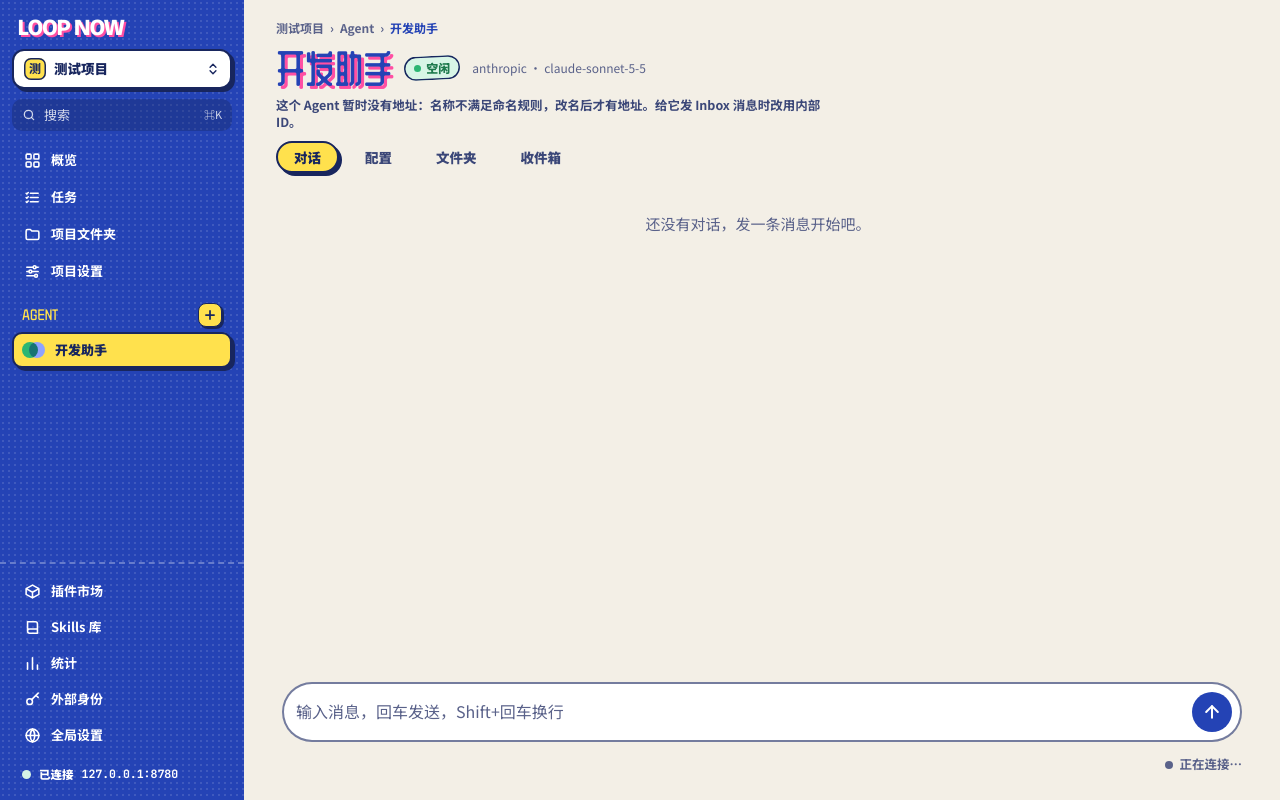
Test case: 发送消息 › 发送成功后去掉已发出的部分，只留下发送期间新输入的文字
This screenshot has width=1280, height=800.
Expected: the element showing "还没有对话，发一条消息开始吧。" is shown, [646,215,870,233]
Type "第一条" into the text box labelled "消息" at (738, 712), box [292,692,1184,732]
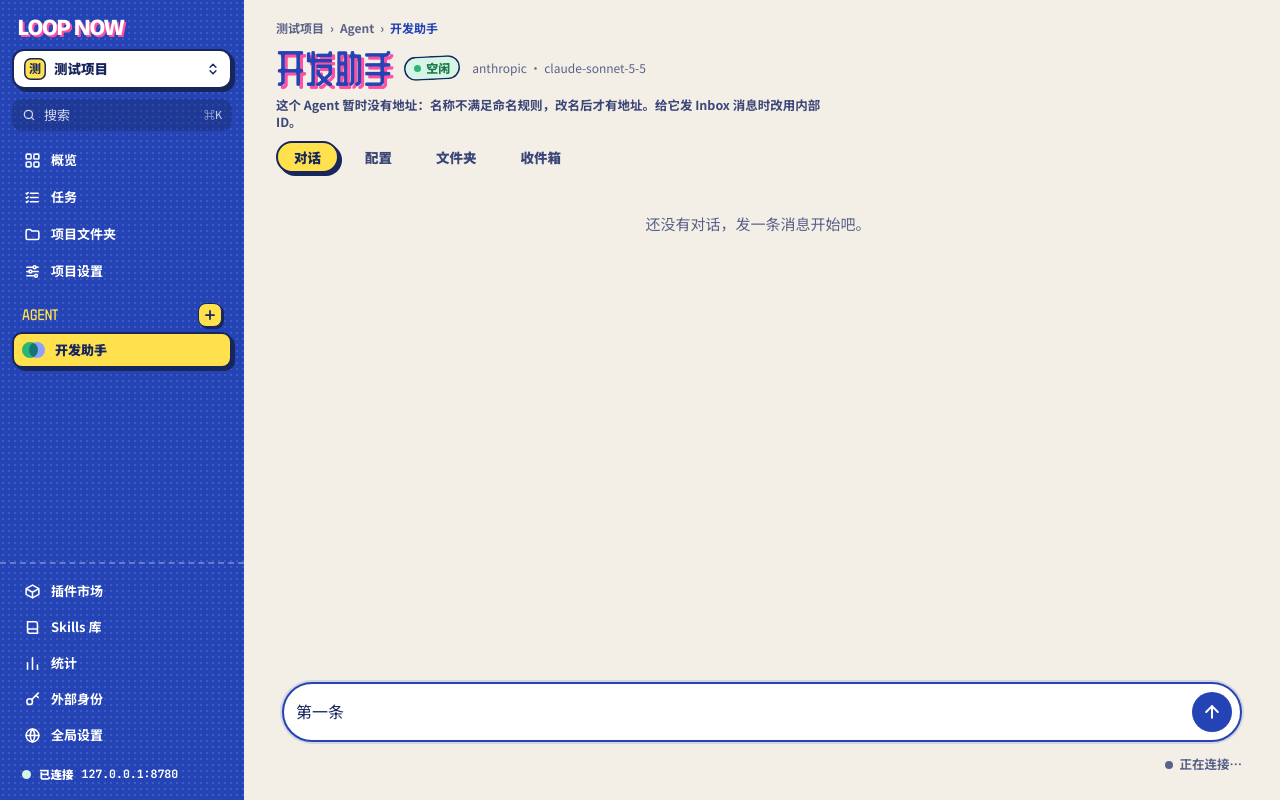
Click the button named "发送" at (1212, 712), box [1192,692,1232,732]
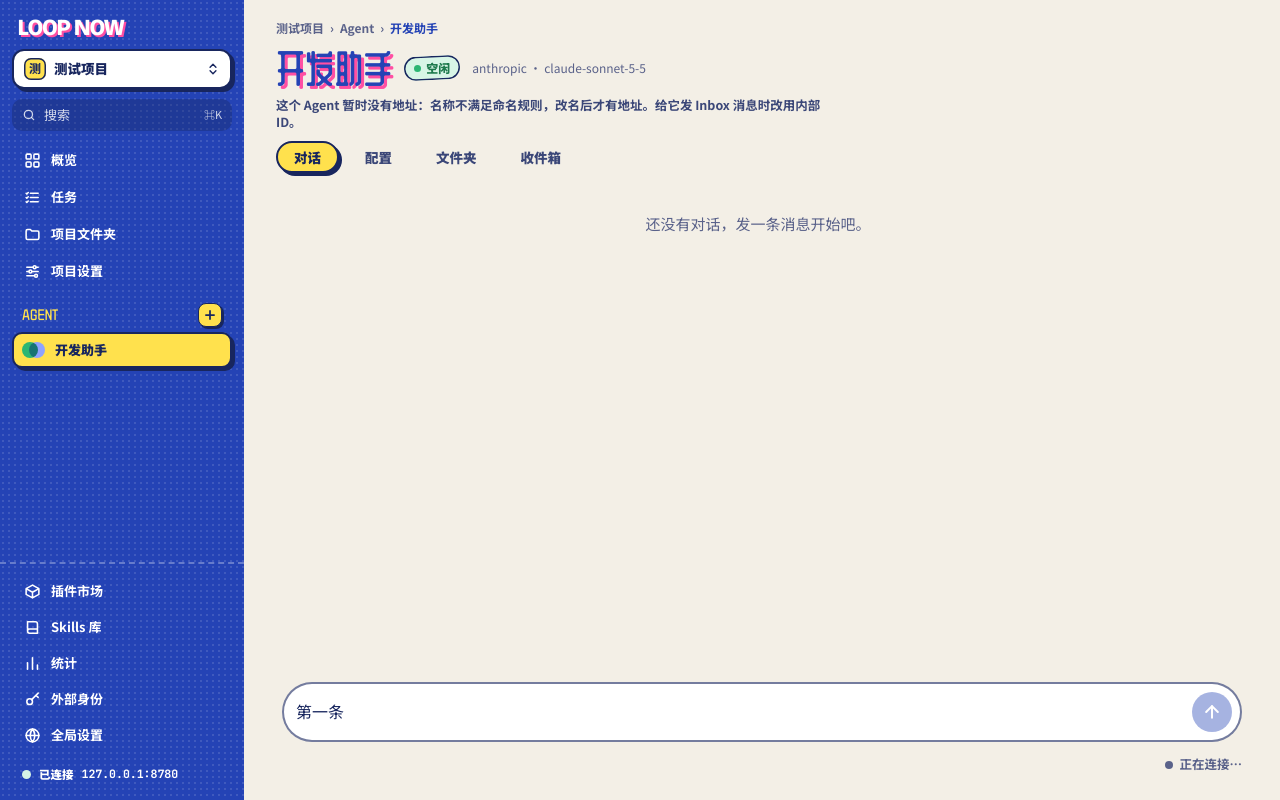
Type "，接着写的第二条" into the text box named "消息" at (738, 712), box [292,692,1184,732]
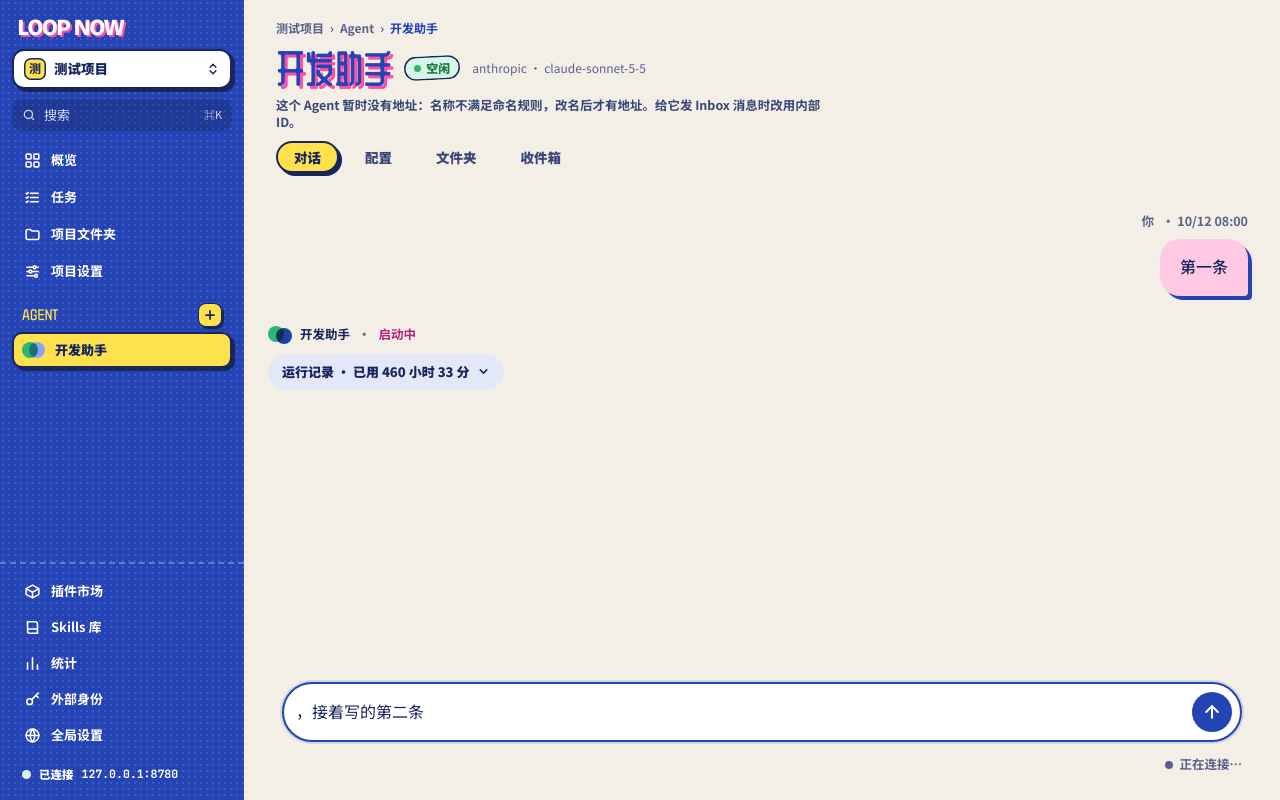
Now the button named "发送" is enabled, box [1192,692,1232,732]
